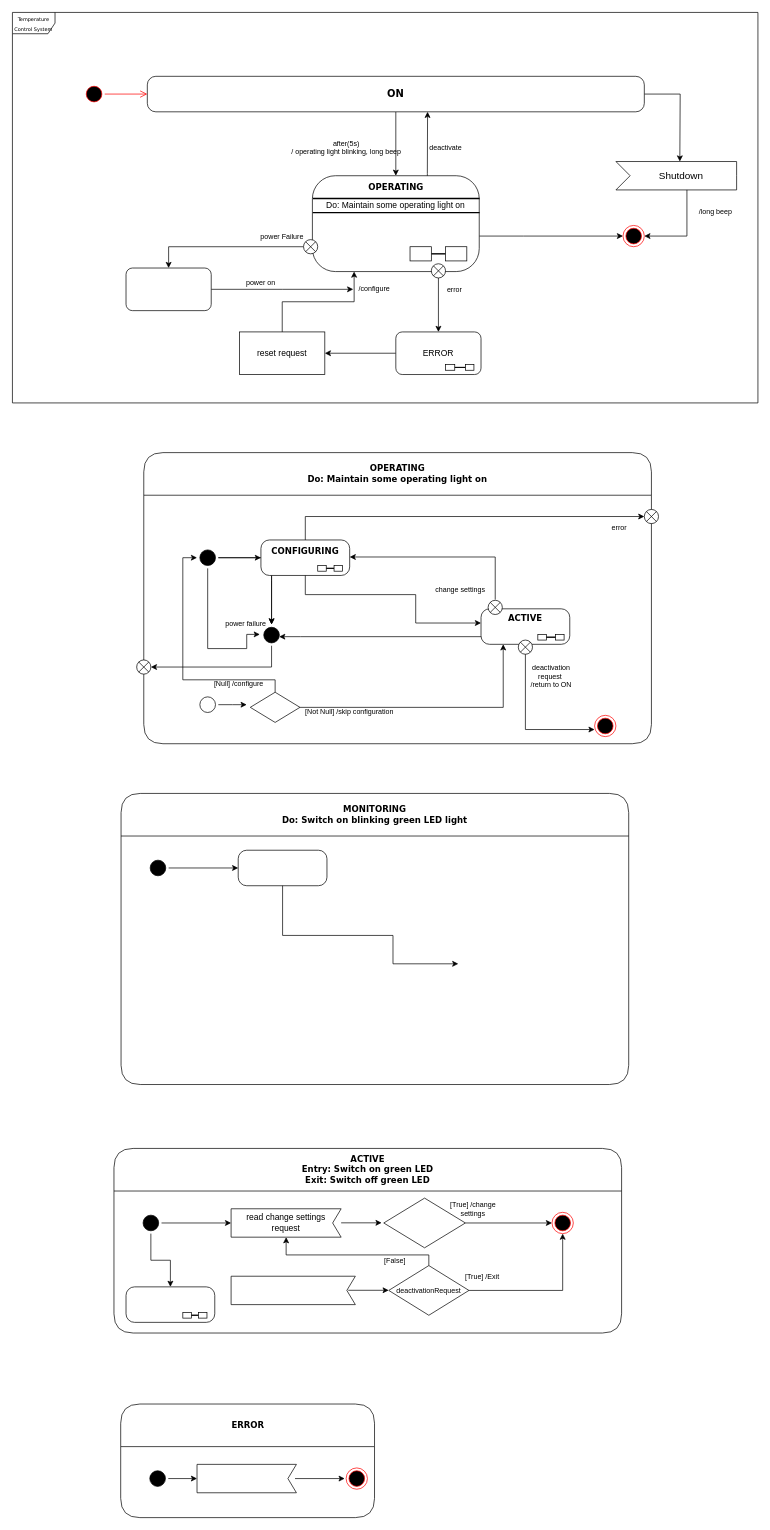
Image size: 770x1530. Some labels were removed from this diagram. The shapes that lost their labels are listed below. From the top down, each one's centre as x and y in pixels, then its label:
At (168,289): "STAND-BY".
At (275,707): "tThreshold".
At (282,868): "IDLE".
At (424,1222): "changeSettings".
At (170,1304): "MONITORING".
At (292,1290): "read deactivation request".
At (246,1478): "rea reset request".
